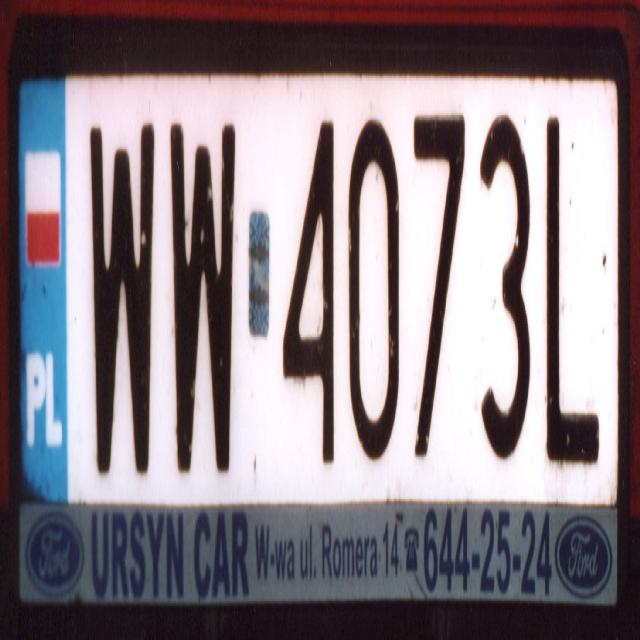pl_license_plate: (18, 78, 618, 500)
